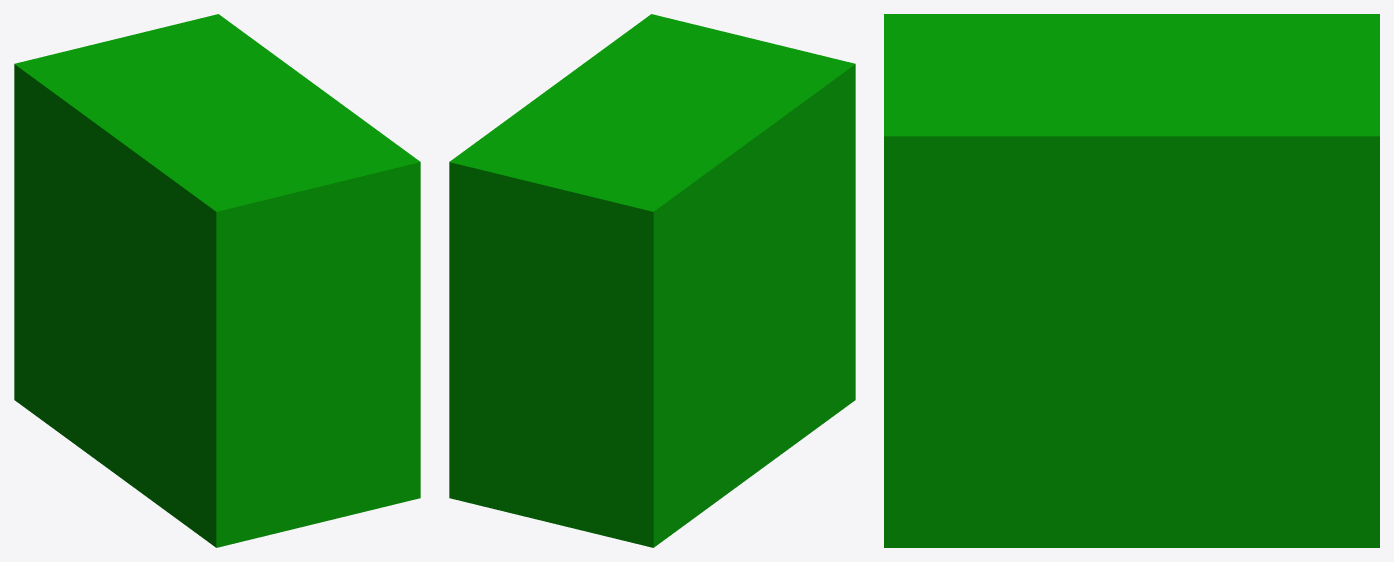
3 renders of one model, left to right at view 1: azimuth 30°, elevation 25°; view 2: azimuth 150°, elevation 25°; view 3: azimuth 270°, elevation 25°, orthographic. The views are drawn at different scales.
Visible parts, largest first — view 1: imagetostl_mesh4, imagetostl_mesh5, imagetostl_mesh1; view 2: imagetostl_mesh2, imagetostl_mesh5, imagetostl_mesh1; view 3: imagetostl_mesh3, imagetostl_mesh1.
Part boxes in pixels (x1,y1,x2,y2): imagetostl_mesh4: (216, 162, 420, 547); imagetostl_mesh5: (14, 64, 216, 547); imagetostl_mesh1: (14, 14, 420, 211); imagetostl_mesh2: (449, 162, 653, 547); imagetostl_mesh5: (653, 64, 855, 547); imagetostl_mesh1: (449, 14, 855, 211); imagetostl_mesh3: (884, 136, 1379, 547); imagetostl_mesh1: (884, 14, 1379, 136).
Size of the model in its own units: 0.5512 by 0.8661 by 0.9449.
